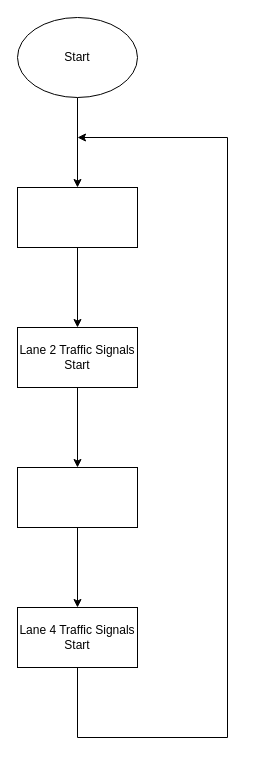
This 253x763 diagram has some shape labels left out. The box of each missing label's shape, as (x1, y1, x2, y2) in pixels:
Lane 1 Traffic Signals Start: (16, 186, 138, 248)
Lane 3 Traffic Signals Start: (16, 466, 138, 528)
